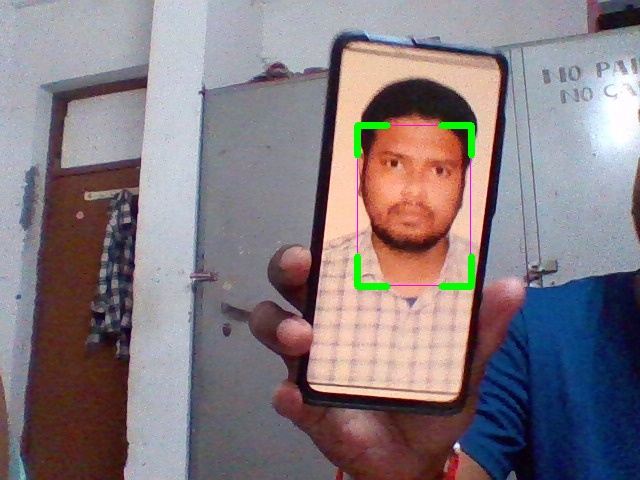fake: (357, 125, 471, 286)
